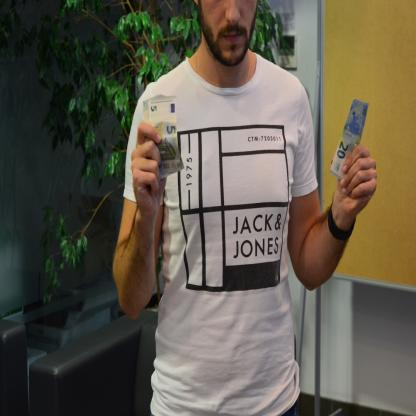billete: (142, 93, 185, 180), (328, 99, 369, 179)
